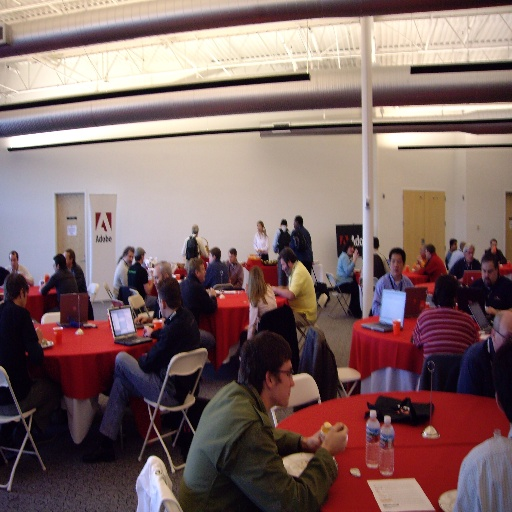hand: (323, 421, 347, 456), (309, 423, 328, 454), (134, 312, 148, 324), (34, 326, 42, 345), (142, 324, 152, 338), (351, 248, 359, 261), (208, 287, 216, 297), (415, 255, 422, 262)
